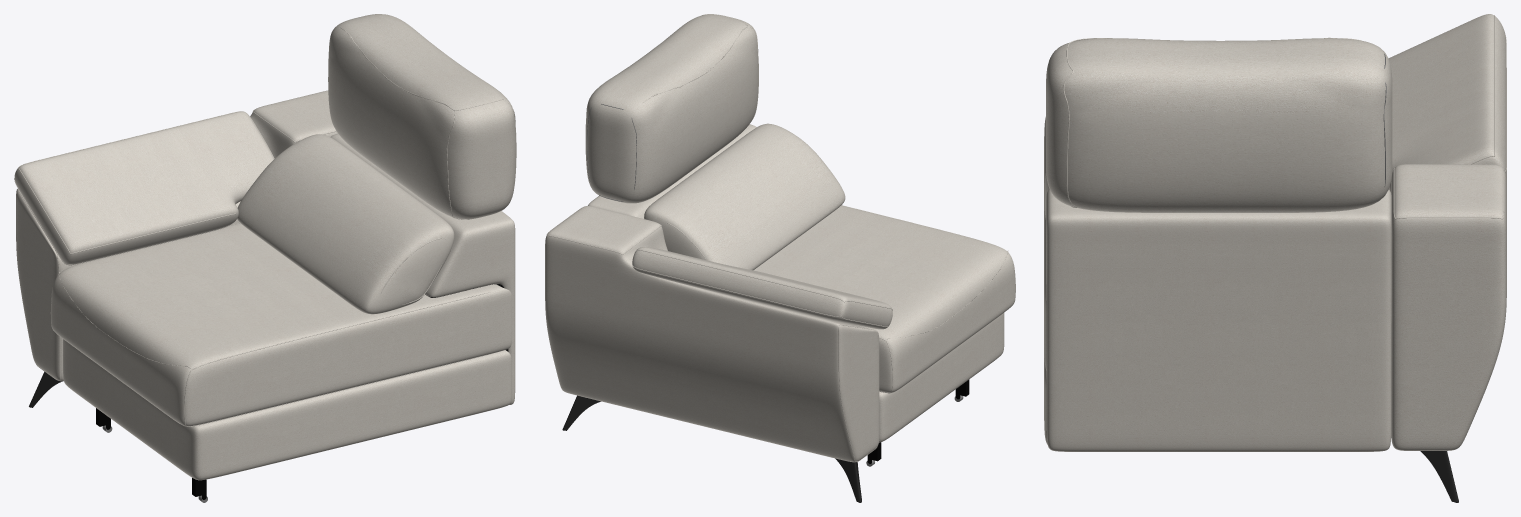
Rendered from arm.glb.
3 renders of one model, left to right at view 1: azimuth 30°, elevation 25°; view 2: azimuth 150°, elevation 25°; view 3: azimuth 270°, elevation 25°, orthographic. The views are drawn at different scales.
Parts seen in each view (by area): view 1: assento, object 4, object 9, Base assento, object 5, object 11, Costa, D=~ 0,00 m (×2); view 2: object 11, assento, object 4, object 5, object 9, Base assento, Costa; view 3: Costa, object 4, object 11, object 9, object 15, assento.
Part boxes in pixels (bbox=[...]): assento: bbox=[51, 223, 511, 502]; object 4: bbox=[328, 14, 516, 219]; object 9: bbox=[14, 111, 273, 265]; Base assento: bbox=[63, 339, 511, 480]; object 5: bbox=[237, 134, 454, 314]; object 11: bbox=[16, 90, 337, 381]; Costa: bbox=[330, 133, 515, 404]; D=~ 0,00 m (×2): bbox=[18, 111, 491, 426]; object 11: bbox=[545, 206, 879, 462]; assento: bbox=[753, 205, 1015, 466]; object 4: bbox=[585, 14, 758, 203]; object 5: bbox=[644, 123, 845, 270]; object 9: bbox=[632, 247, 892, 329]; Base assento: bbox=[879, 313, 1004, 442]; Costa: bbox=[588, 124, 756, 218]; Costa: bbox=[1046, 189, 1391, 451]; object 4: bbox=[1046, 38, 1392, 212]; object 11: bbox=[1391, 68, 1506, 450]; object 9: bbox=[1388, 14, 1506, 191]; object 15: bbox=[1420, 451, 1458, 502]; assento: bbox=[1044, 117, 1046, 370].
Bounding box in the file's own units: 1.1 × 1.04 × 0.9967.
5 materials, 1 textured.
